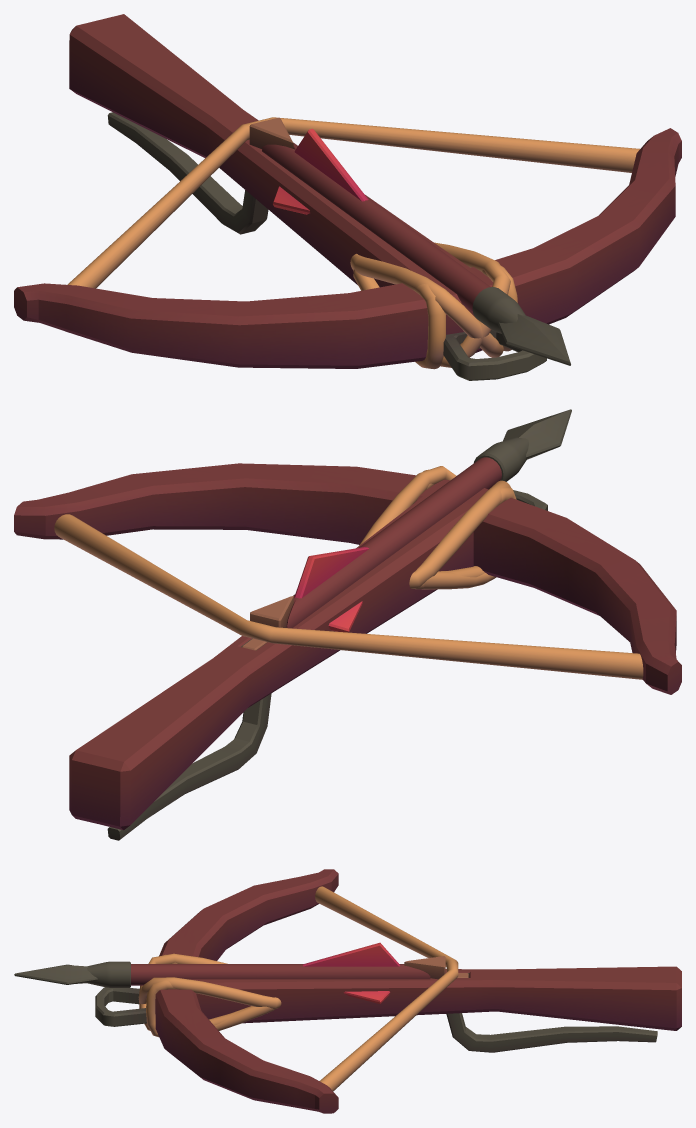
The model's file is Crossbow.fbx.
3 renders of one model, top to bottom at view 1: azimuth 30°, elevation 25°; view 2: azimuth 150°, elevation 25°; view 3: azimuth 270°, elevation 25°, orthographic. The views are drawn at different scales.
Parts seen in each view (by area): view 1: Crossbow_reloaded1; view 2: Crossbow_reloaded1; view 3: Crossbow_reloaded1.
Part boxes in pixels (x1,y1,x2,y2): Crossbow_reloaded1: (14, 14, 681, 380); Crossbow_reloaded1: (14, 409, 681, 840); Crossbow_reloaded1: (14, 869, 681, 1113).
Bounding box in the file's own units: 0.8388 × 0.1863 × 1.05.
